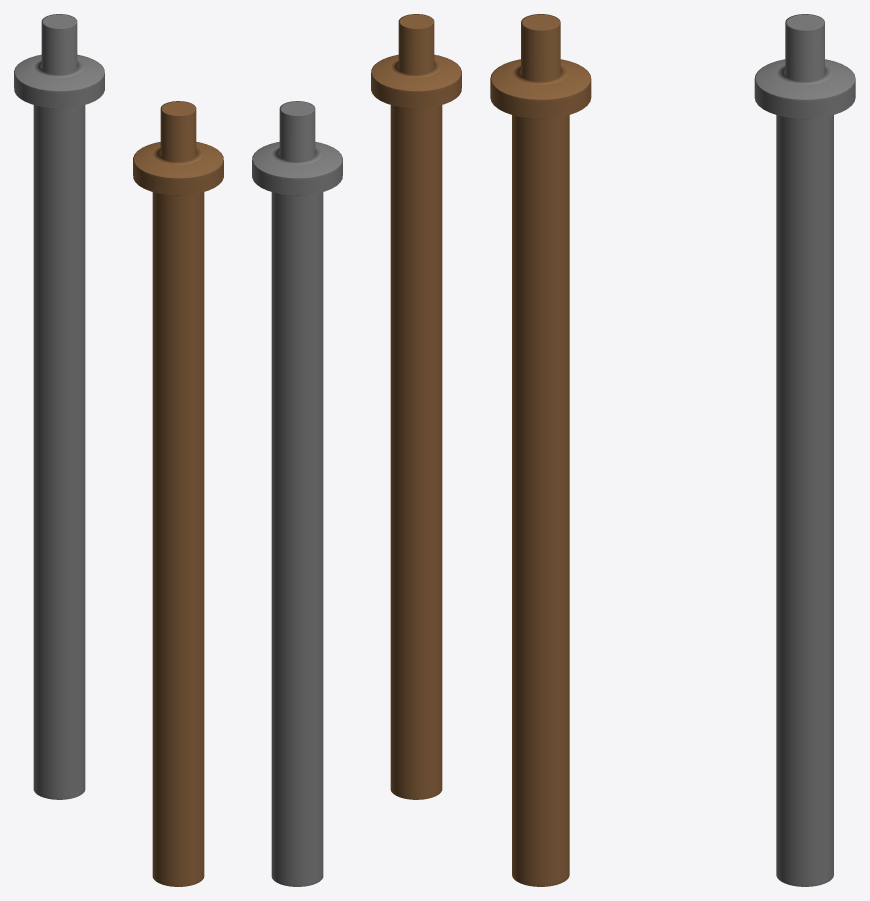
The model's file is torches.fbx.
The picture shows the model from 3 angles, left to right: view 1: azimuth 30°, elevation 25°; view 2: azimuth 150°, elevation 25°; view 3: azimuth 270°, elevation 25°; orthographic projection. The views are drawn at different scales.
Visible parts, largest first — view 1: Cylinder.019, Cylinder.022; view 2: Cylinder.022, Cylinder.019; view 3: Cylinder.019, Cylinder.022.
Boxes of the visible parts, <box> form: Cylinder.019: <box>133,101,223,886</box>; Cylinder.022: <box>14,14,104,799</box>; Cylinder.022: <box>252,101,342,886</box>; Cylinder.019: <box>371,14,461,799</box>; Cylinder.019: <box>490,14,591,886</box>; Cylinder.022: <box>754,14,855,886</box>.
Size of the model in its own units: 241 by 2242 by 871.
